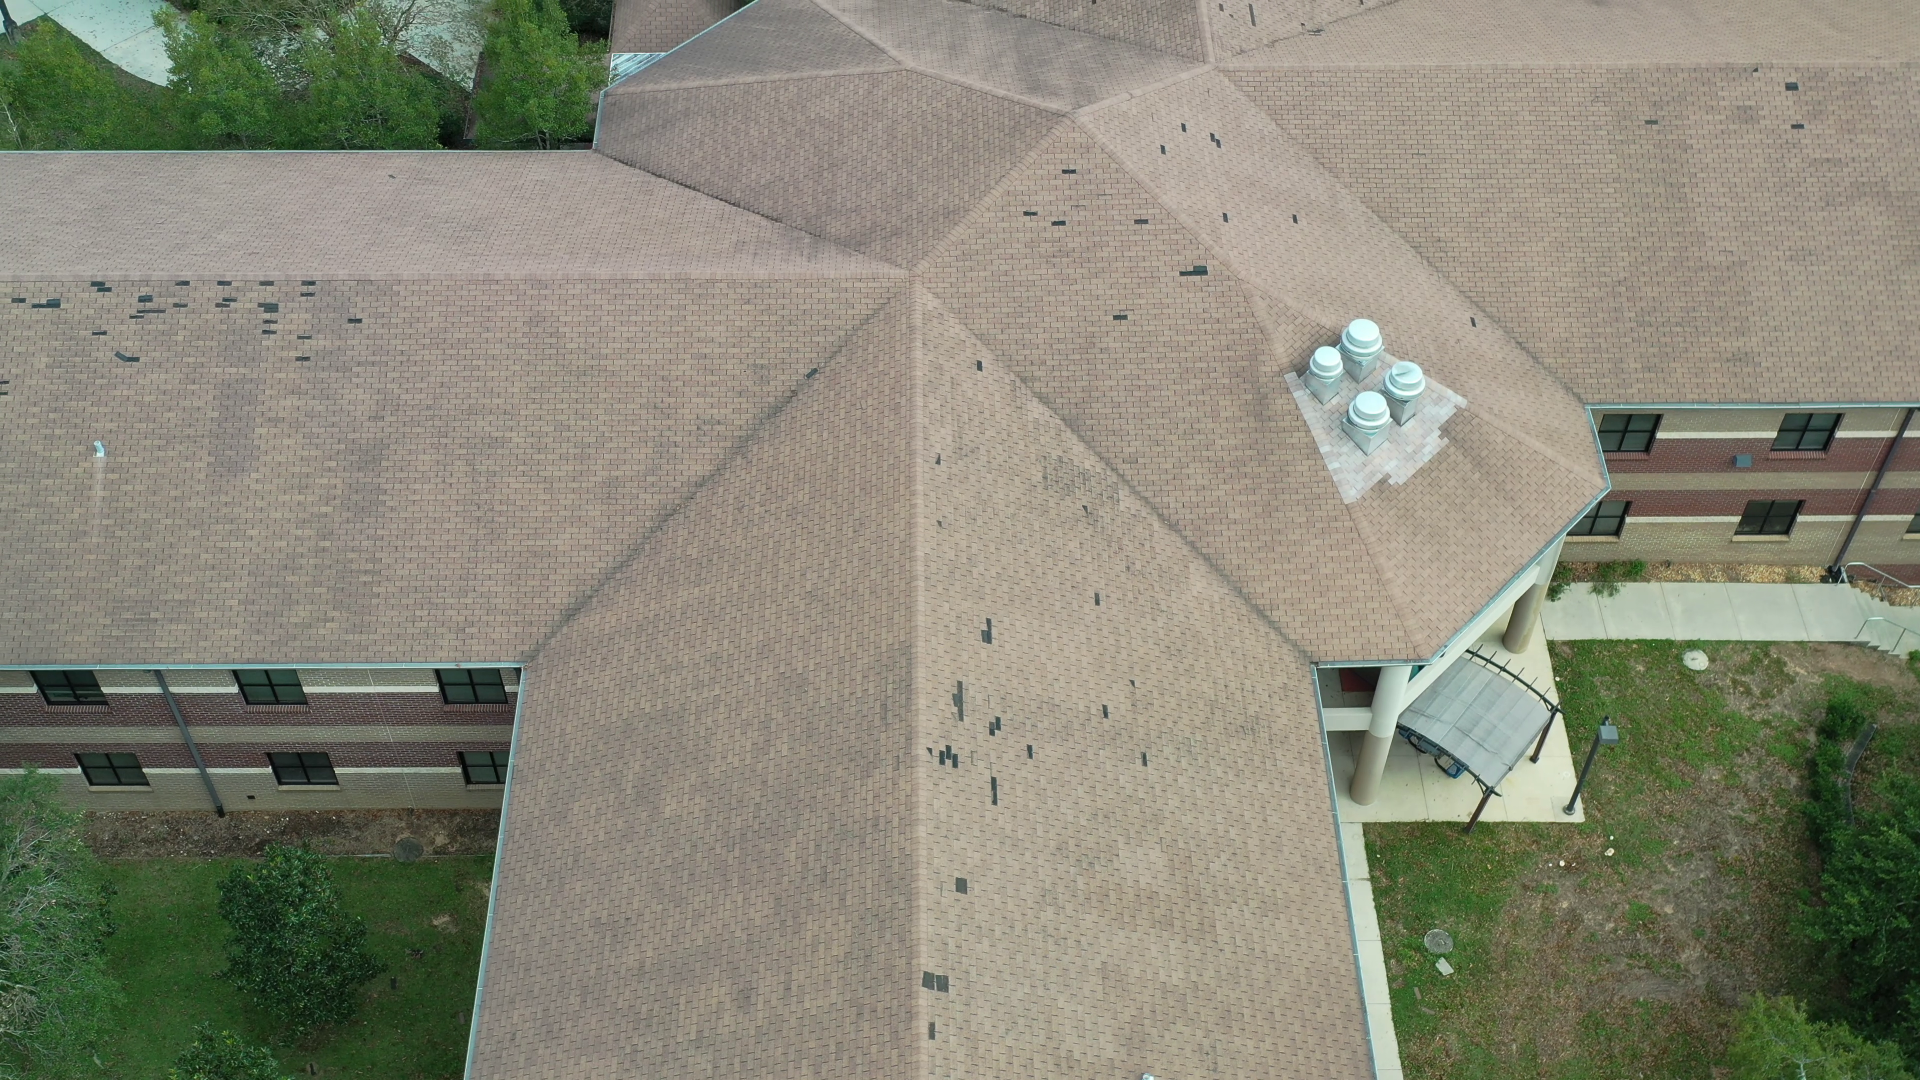Light: (11, 280, 363, 361), (927, 680, 1034, 806), (1102, 680, 1149, 767), (920, 971, 949, 1040), (1179, 124, 1222, 149), (1021, 211, 1067, 227), (981, 617, 994, 645), (1178, 266, 1208, 277), (953, 877, 969, 895), (1783, 80, 1800, 92), (1059, 167, 1077, 175), (1640, 117, 1659, 125), (1789, 123, 1807, 131), (1133, 218, 1149, 225), (1220, 211, 1229, 223), (1112, 314, 1127, 320), (1095, 592, 1101, 607), (976, 357, 982, 372), (1159, 142, 1166, 156), (1291, 212, 1298, 225)
